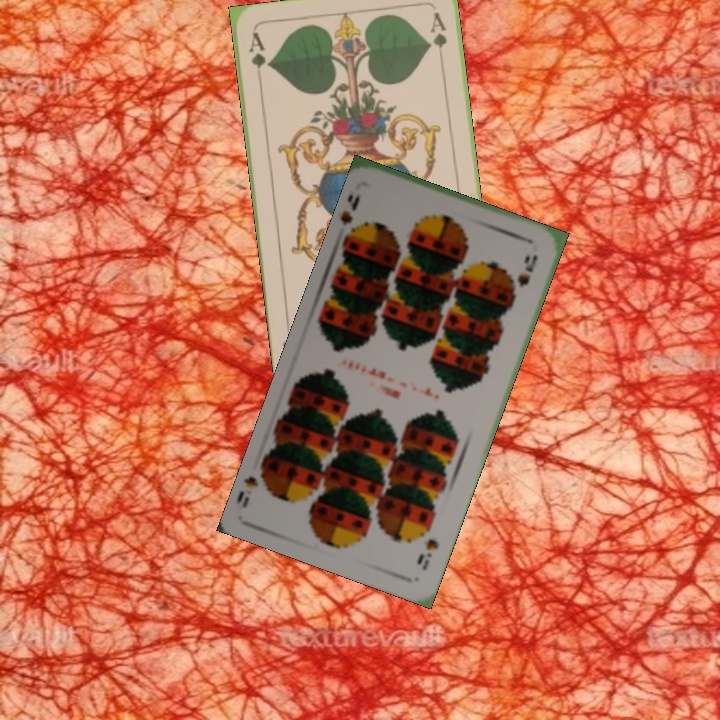GA: (244, 28, 268, 88)
S9: (340, 189, 367, 241), (413, 535, 441, 573)
